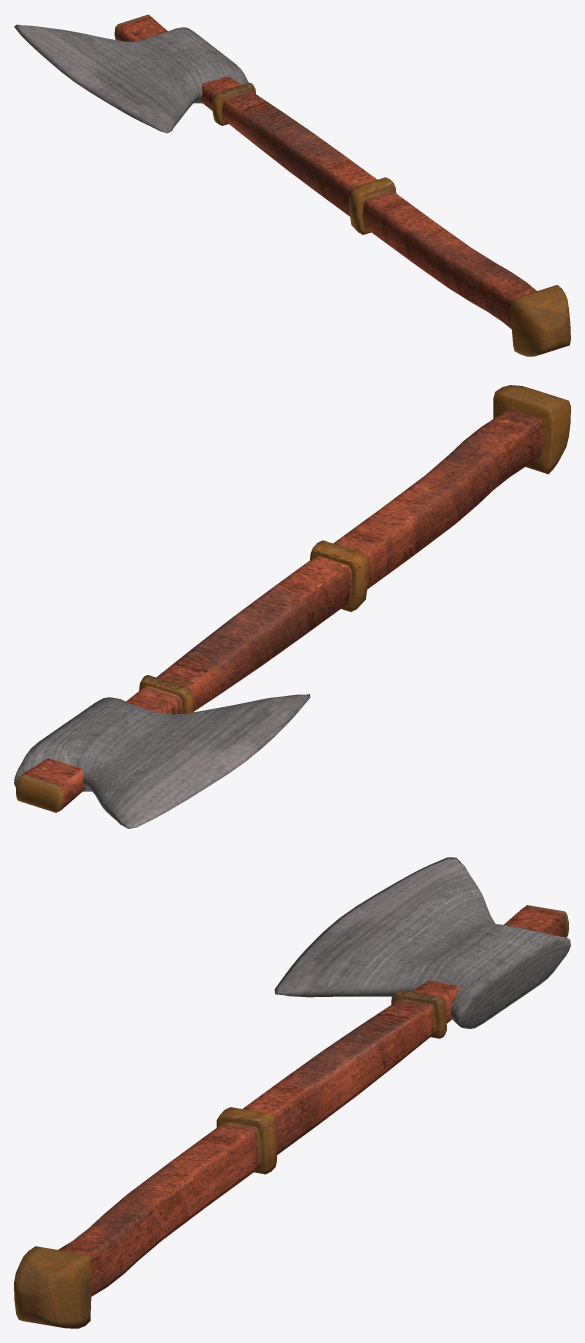
File: axe.fbx
3 renders of one model, top to bottom at view 1: azimuth 30°, elevation 25°; view 2: azimuth 150°, elevation 25°; view 3: azimuth 330°, elevation 25°, orthographic. The views are drawn at different scales.
Parts seen in each view (by area): view 1: Handle.004; view 2: Handle.004; view 3: Handle.004.
Part boxes in pixels (x1=…): Handle.004: x1=14, y1=14, x2=570, y2=356; Handle.004: x1=14, y1=385, x2=570, y2=828; Handle.004: x1=14, y1=857, x2=570, y2=1328.
Bounding box in the file's own units: 1.22 × 0.4541 × 6.51.
